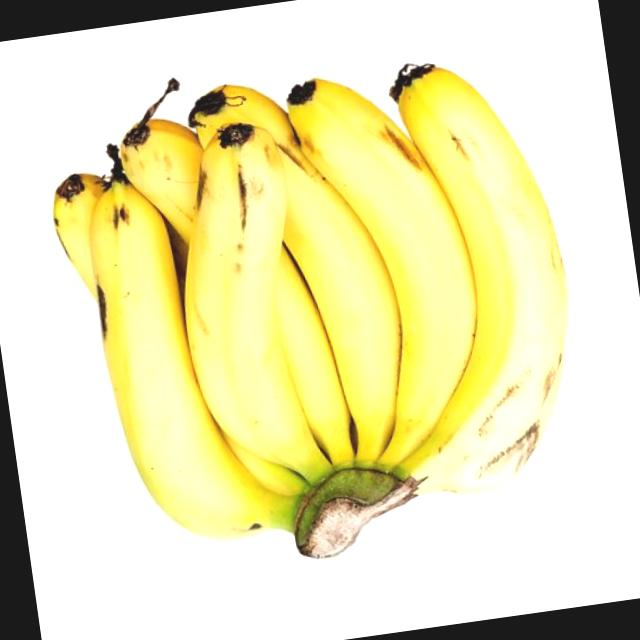chuoi: (56, 67, 568, 559)
